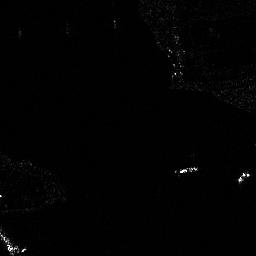ship: (172, 164, 199, 175)
